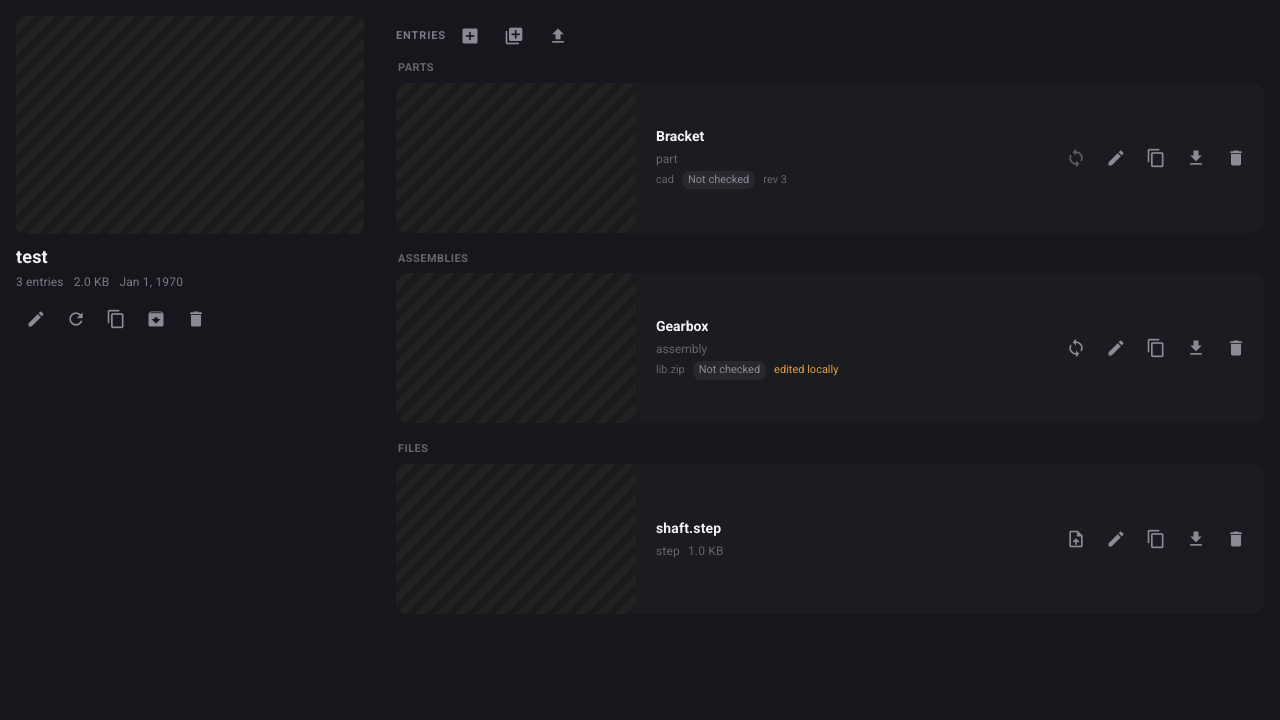
Scenario: WorkspaceView origins › checks the remaining rows when one resolver throws
The image size is (1280, 720).
Check: the text "Bracket" is shown, box [656,126,704,147]
Click the button named "Check for updates": (76, 319) [56,299,96,339]
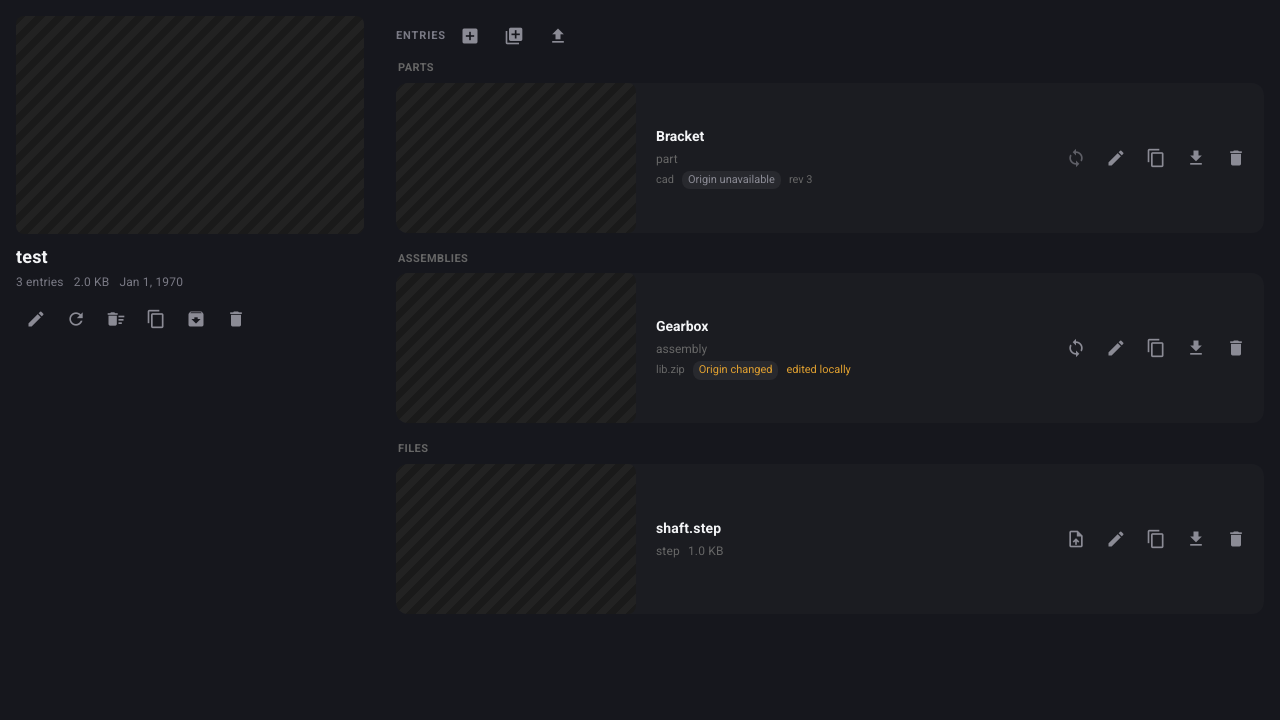
Check: the text "Origin unavailable" is shown, box [682,171,781,189]
Check: the text "Origin changed" is shown, box [693,361,778,380]
